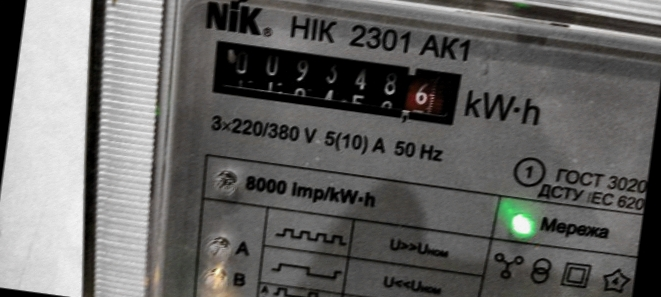0: (231, 48, 250, 76), (262, 49, 279, 77)
3: (322, 58, 340, 85)
4: (349, 60, 371, 92)
6: (410, 77, 431, 108)
8: (380, 67, 399, 97)
9: (292, 56, 310, 85)
screen: (190, 23, 476, 138)
